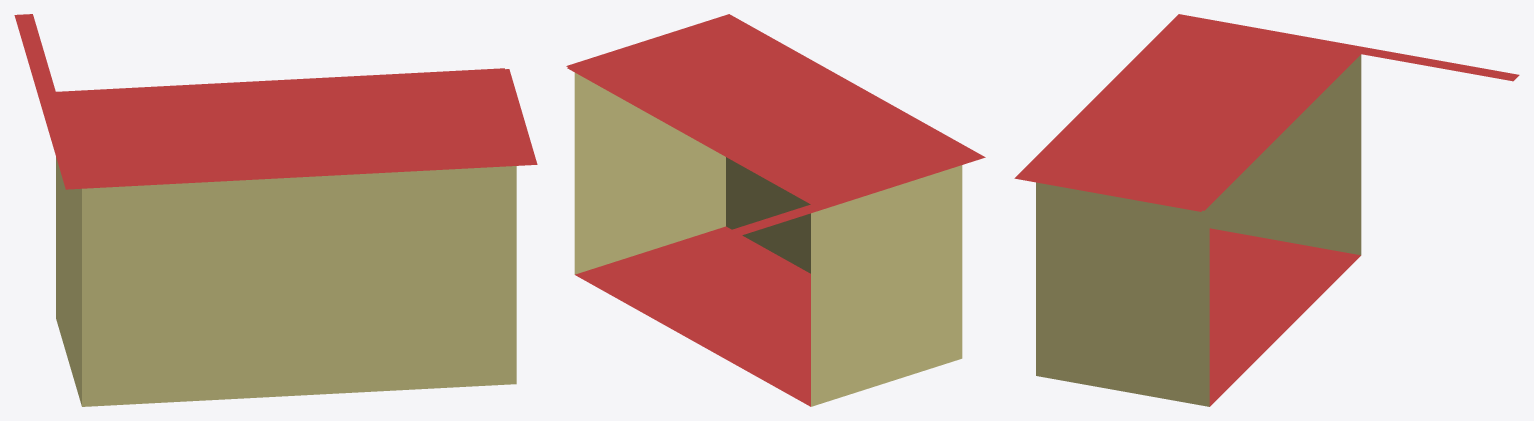
3 views of the same model, side by side, from view 1: azimuth 30°, elevation 25°; view 2: azimuth 150°, elevation 25°; view 3: azimuth 270°, elevation 25° (orthographic). The views are drawn at different scales.
Bounding box in the file's own units: 14.08 × 15.2 × 6.67.
